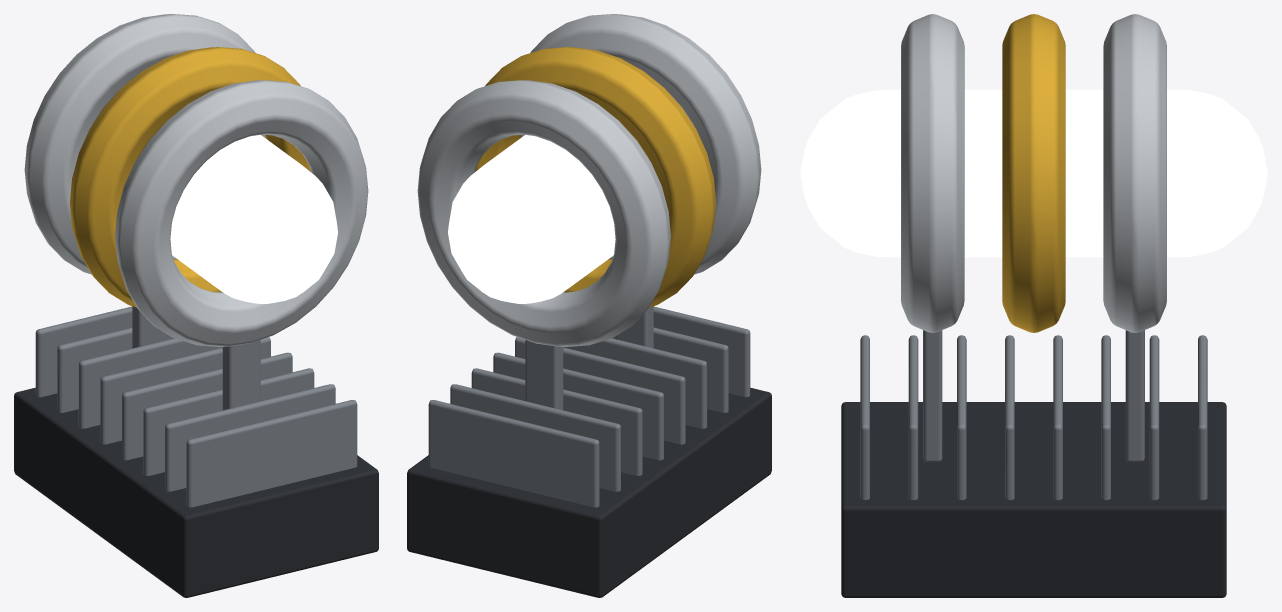
File: wraith_utility_dome.fbx
3 renders of one model, left to right at view 1: azimuth 30°, elevation 25°; view 2: azimuth 150°, elevation 25°; view 3: azimuth 270°, elevation 25°, orthographic. The views are drawn at different scales.
Visible parts, largest first — view 1: Utility_Dome; view 2: Utility_Dome; view 3: Utility_Dome.
Boxes of the visible parts, x1,y1,x2,y2 form: Utility_Dome: (14, 14, 378, 597); Utility_Dome: (407, 14, 771, 597); Utility_Dome: (800, 14, 1267, 597).
Size of the model in its own units: 8.79 by 15.71 by 12.86.
